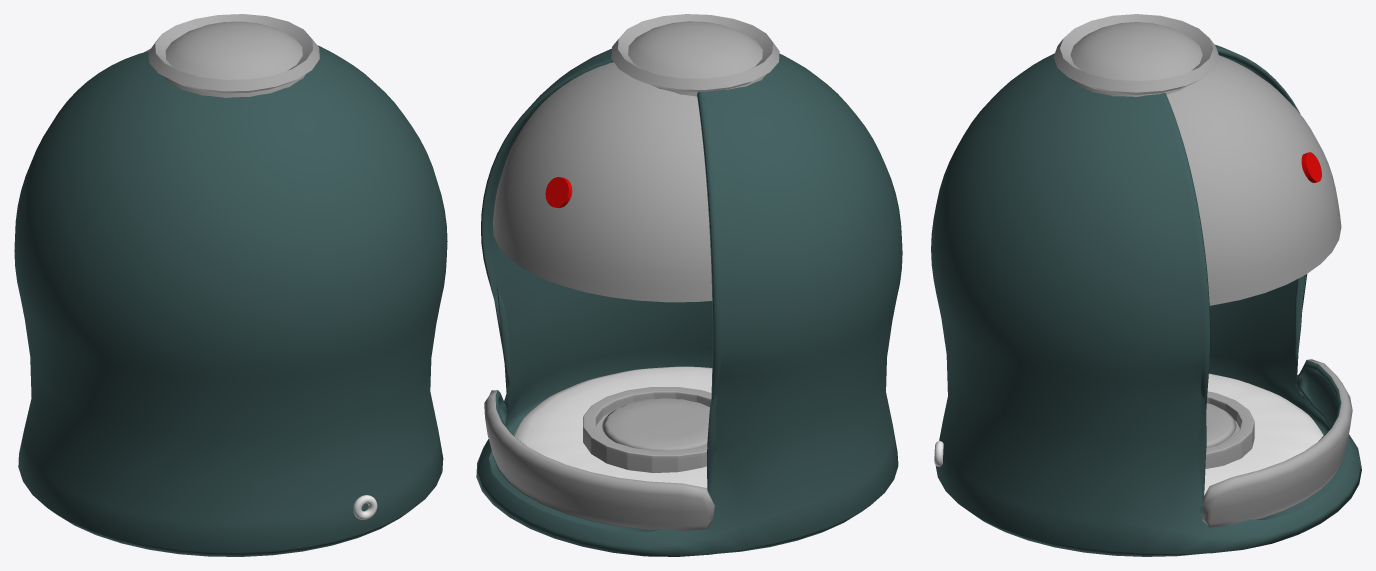
File: coffee pot unbotch.fbx
The picture shows the model from 3 angles, left to right: view 1: azimuth 30°, elevation 25°; view 2: azimuth 150°, elevation 25°; view 3: azimuth 270°, elevation 25°; orthographic projection.
Parts seen in each view (by area): view 1: polySurface15, pSphere3; view 2: polySurface15, polySurface13, pSphere3, polySurface9, polySurface7, pCylinder10; view 3: polySurface15, polySurface13, pSphere3, polySurface7, polySurface9.
Part boxes in pixels (x1=…): polySurface15: x1=14, y1=45, x2=447, y2=556; pSphere3: x1=148, y1=14, x2=319, y2=97; polySurface15: x1=476, y1=48, x2=902, y2=556; polySurface13: x1=493, y1=62, x2=712, y2=302; pSphere3: x1=611, y1=14, x2=779, y2=96; polySurface9: x1=583, y1=387, x2=711, y2=472; polySurface7: x1=513, y1=366, x2=712, y2=488; pCylinder10: x1=545, y1=177, x2=572, y2=208; polySurface15: x1=931, y1=44, x2=1361, y2=556; polySurface13: x1=1166, y1=55, x2=1341, y2=305; pSphere3: x1=1053, y1=14, x2=1219, y2=96; polySurface7: x1=1204, y1=373, x2=1323, y2=495; polySurface9: x1=1205, y1=391, x2=1254, y2=468.
Bounding box in the file's own units: 49.02 × 55.01 × 49.25.
